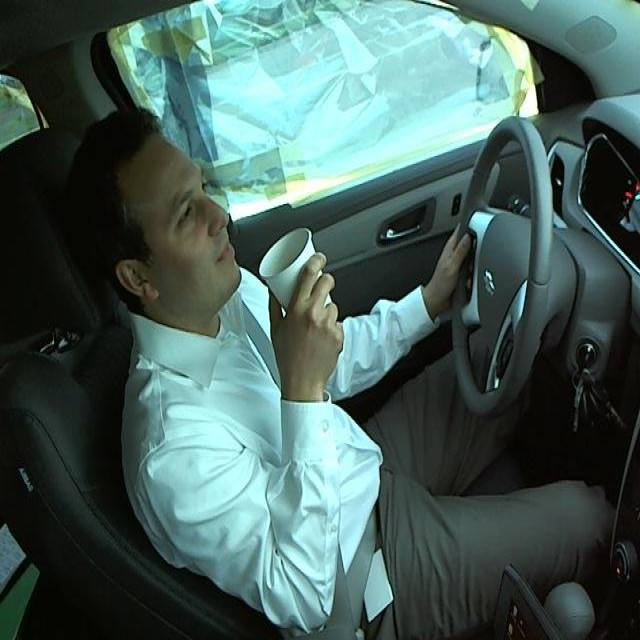Seatbelt: (258, 225, 332, 323)
